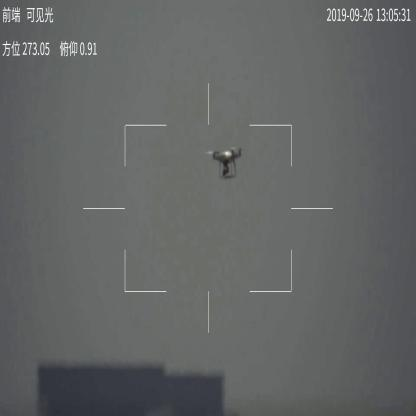uav: (203, 145, 245, 181)
